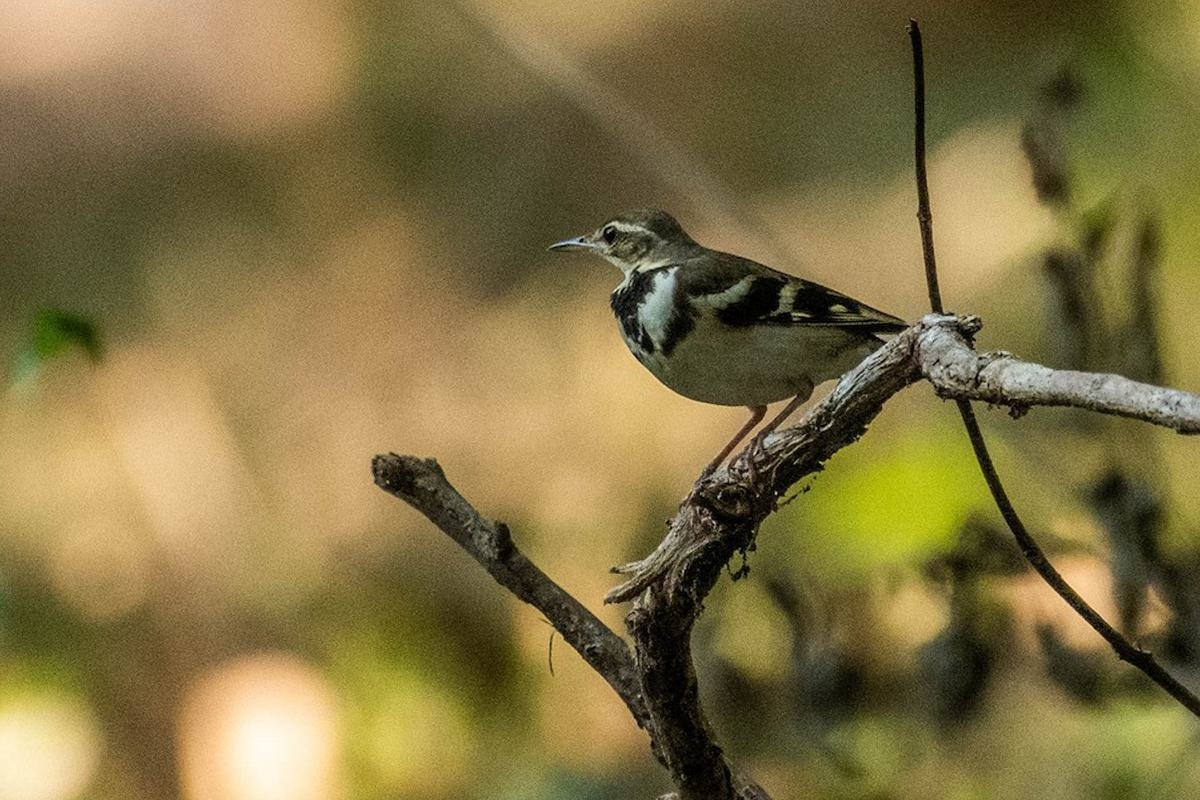wagtail: (559, 197, 925, 438)
